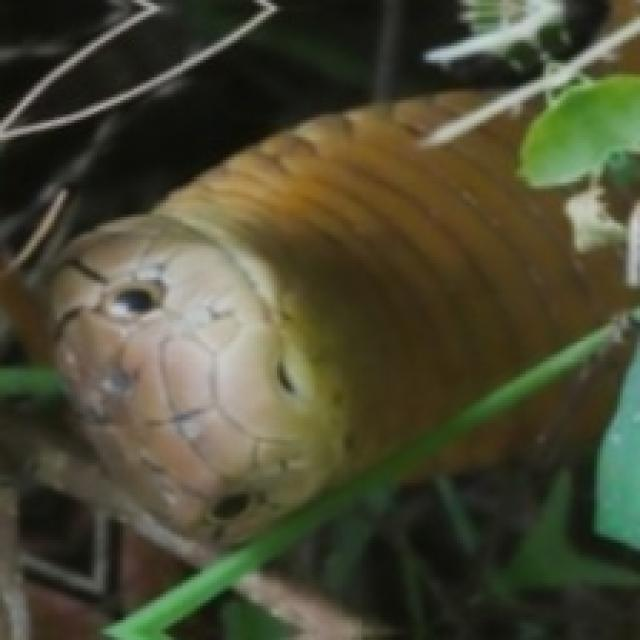king cobra: (0, 0, 637, 637), (51, 91, 626, 560), (426, 351, 623, 471)
